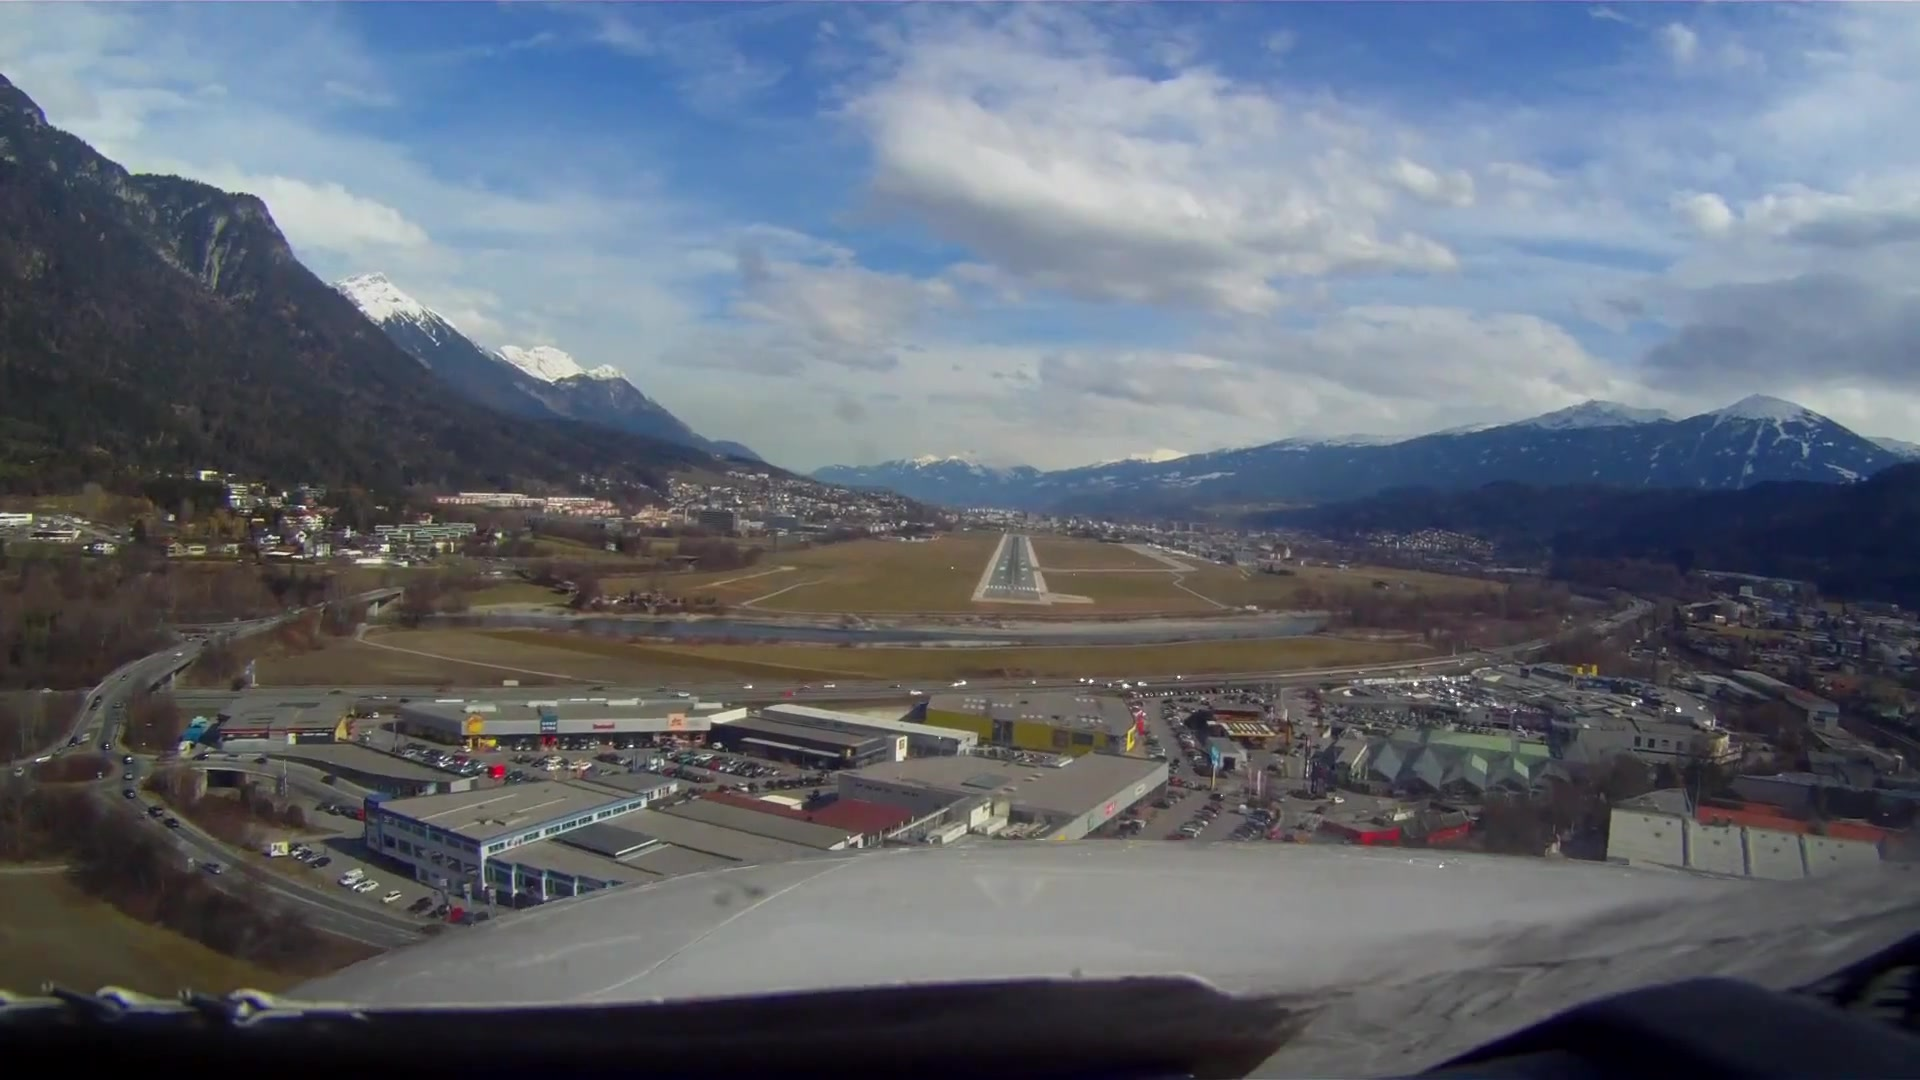entrance: (988, 585, 1038, 591)
runway: (985, 535, 1043, 597)
